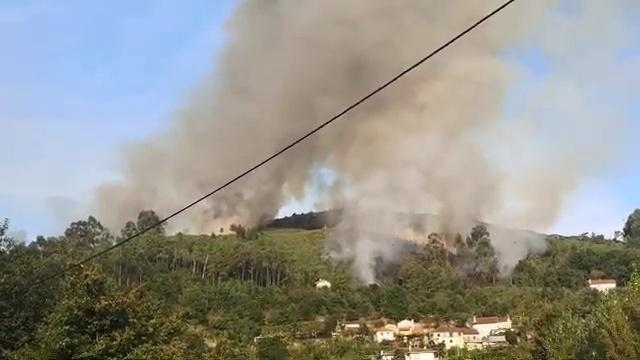smoke: (248, 5, 447, 110), (357, 134, 464, 224)
